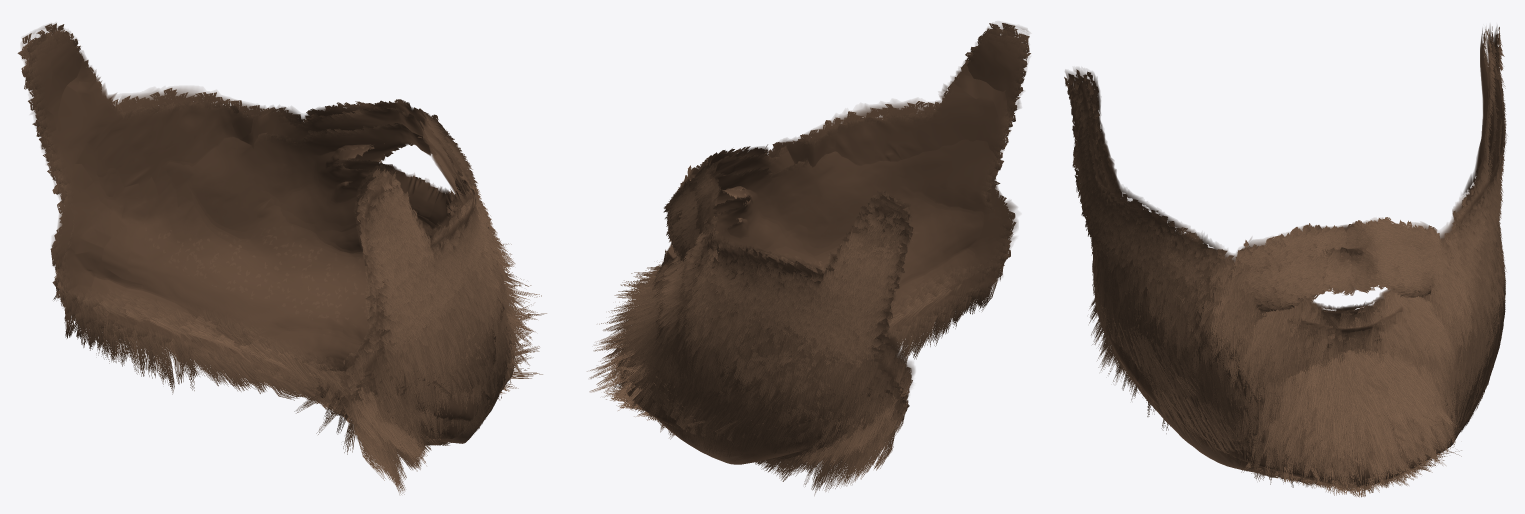
Rendered from beards-male.glb.
3 views of the same model, side by side, from view 1: azimuth 30°, elevation 25°; view 2: azimuth 150°, elevation 25°; view 3: azimuth 270°, elevation 25° (orthographic). The views are drawn at different scales.
Visible parts, largest first — view 1: Beard_m2_stubble_root, Beard_m2_boxed_root, Beard_m3_full_cards, Beard_m1_stubble_root, Beard_m1_boxed_root, Beard_m4_full_cards, Beard_m3_stubble_root, Beard_m3_boxed_root, Beard_m3_tapered_cards, Beard_m3_boxed_cards, Beard_m2_tapered_root, Beard_m2_full_cards (+17 smaller); view 2: Beard_m4_full_cards, Beard_m3_full_cards, Beard_m1_boxed_root, Beard_m1_stubble_root, Beard_m4_tapered_cards, Beard_m2_boxed_root, Beard_m2_stubble_root, Beard_m3_tapered_cards, Beard_m2_full_cards, Beard_m2_tapered_root, Beard_m3_boxed_cards, Beard_m2_tapered_cards (+18 smaller); view 3: Beard_m4_tapered_cards, Beard_m4_full_cards, Beard_m2_tapered_cards, Beard_m3_full_cards, Beard_m2_full_cards, Beard_m3_tapered_cards, Beard_m1_tapered_cards, Beard_m4_boxed_cards, Beard_m4_goatee_cards, Beard_m2_boxed_cards, Beard_m3_boxed_cards, Beard_m4_tapered_root (+9 smaller).
Boxes of the visible parts, box(x1,y1,x2,y2) form: Beard_m2_stubble_root: box(58, 80, 465, 344); Beard_m2_boxed_root: box(30, 49, 473, 378); Beard_m3_full_cards: box(17, 32, 521, 470); Beard_m1_stubble_root: box(40, 39, 433, 296); Beard_m1_boxed_root: box(35, 35, 452, 375); Beard_m4_full_cards: box(25, 30, 525, 494); Beard_m3_stubble_root: box(93, 101, 463, 363); Beard_m3_boxed_root: box(25, 40, 473, 372); Beard_m3_tapered_cards: box(21, 31, 532, 416); Beard_m3_boxed_cards: box(21, 23, 478, 418); Beard_m2_tapered_root: box(30, 59, 473, 396); Beard_m2_full_cards: box(27, 24, 515, 468); Beard_m4_full_cards: box(621, 37, 1029, 495); Beard_m3_full_cards: box(703, 23, 1030, 466); Beard_m1_boxed_root: box(715, 32, 1019, 313); Beard_m1_stubble_root: box(715, 40, 1012, 267); Beard_m4_tapered_cards: box(587, 30, 1026, 475); Beard_m2_boxed_root: box(704, 60, 1014, 367); Beard_m2_stubble_root: box(705, 79, 1009, 286); Beard_m3_tapered_cards: box(600, 24, 1023, 414); Beard_m2_full_cards: box(631, 67, 1021, 468); Beard_m2_tapered_root: box(705, 52, 1012, 373); Beard_m3_boxed_cards: box(708, 30, 1029, 400); Beard_m2_tapered_cards: box(593, 25, 1024, 411); Beard_m4_tapered_cards: box(1075, 38, 1502, 493); Beard_m4_full_cards: box(1074, 26, 1506, 485); Beard_m2_tapered_cards: box(1076, 34, 1495, 456); Beard_m3_full_cards: box(1064, 34, 1507, 432); Beard_m2_full_cards: box(1081, 29, 1497, 426); Beard_m3_tapered_cards: box(1068, 27, 1506, 466); Beard_m1_tapered_cards: box(1092, 32, 1498, 497); Beard_m4_boxed_cards: box(1074, 32, 1502, 347); Beard_m4_goatee_cards: box(1242, 244, 1444, 354); Beard_m2_boxed_cards: box(1076, 32, 1495, 322); Beard_m3_boxed_cards: box(1064, 31, 1506, 326); Beard_m4_tapered_root: box(1092, 32, 1500, 487).
Bounding box in the file's own units: 0.1676 × 0.1509 × 0.1665.
Materials: 2 (1 with a texture image).
